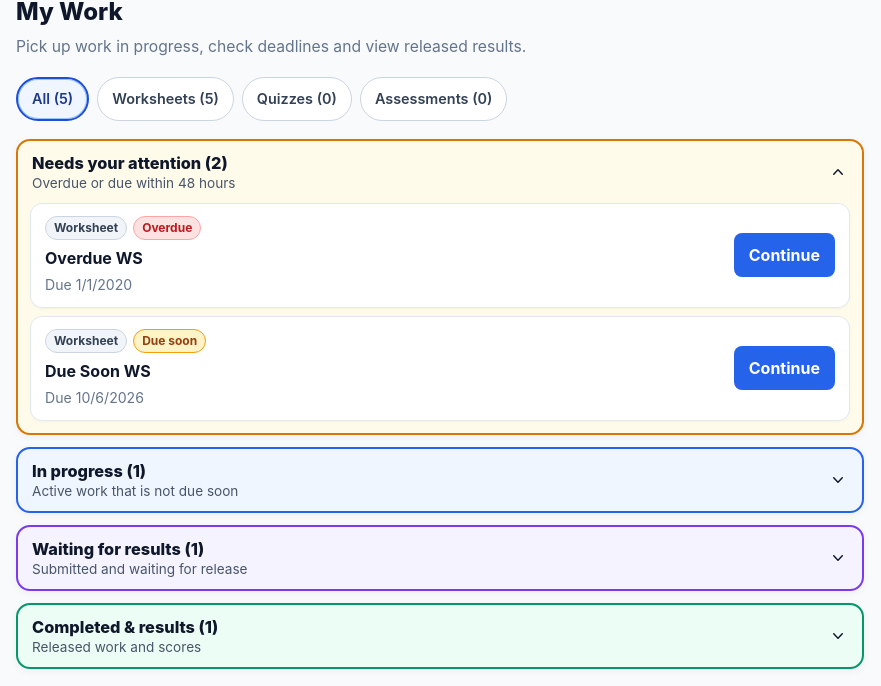
Scenario: mutually exclusive grouping and classification precedence
This screenshot has width=881, height=686.
Expected: the button "Needs your attention (2) Overdue or due within 48 hours" is shown, x1=18 y1=141 x2=862 y2=203
Expected: the button "In progress (1) Active work that is not due soon" is shown, x1=18 y1=449 x2=862 y2=511
Click the button "Waiting for results (1) Submitted and waiting for release" at [106, 549], box x1=18 y1=527 x2=862 y2=589
(page scrolled)
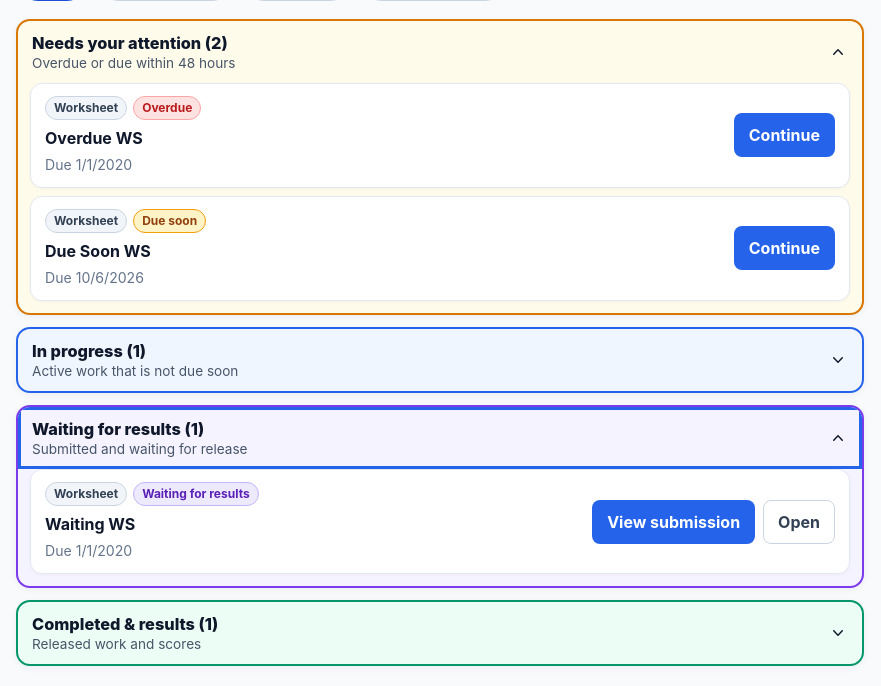
Expected: the heading "Waiting WS" is shown, x1=45 y1=514 x2=135 y2=534
Expected: the text "Waiting for results" is shown, x1=133 y1=482 x2=259 y2=506
Click the button "Completed & results (1) Released work and scores" at [113, 624], box x1=18 y1=602 x2=862 y2=664
(page scrolled)
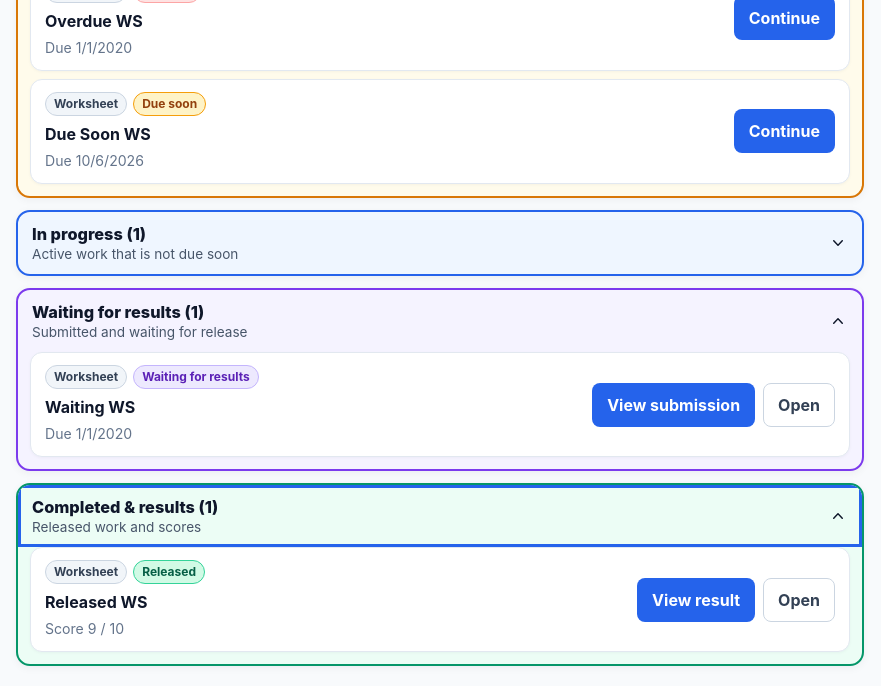
Expected: the heading "Released WS" is shown, x1=45 y1=592 x2=148 y2=612
Expected: the text "Score 9 / 10" is shown, x1=45 y1=620 x2=124 y2=637
